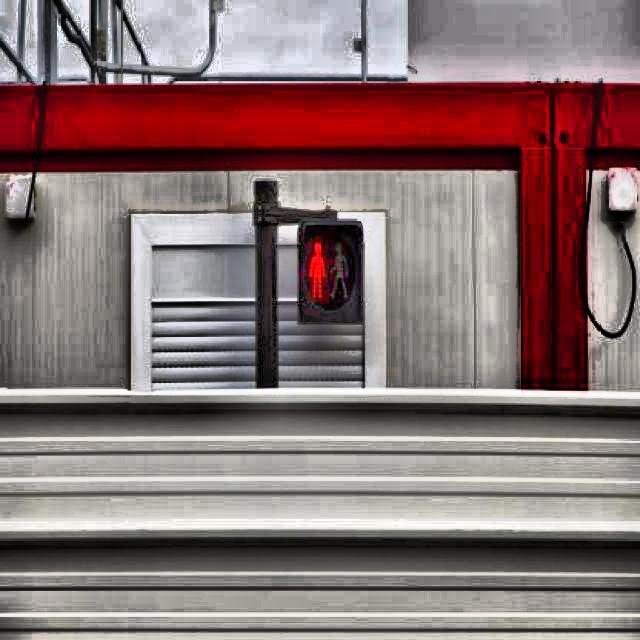semaforo pedestre: (262, 178, 416, 374)
